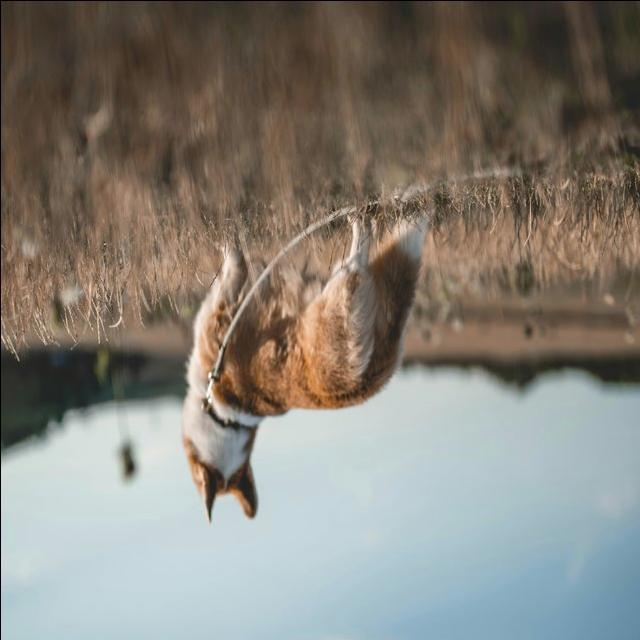corgi: (178, 203, 433, 524)
